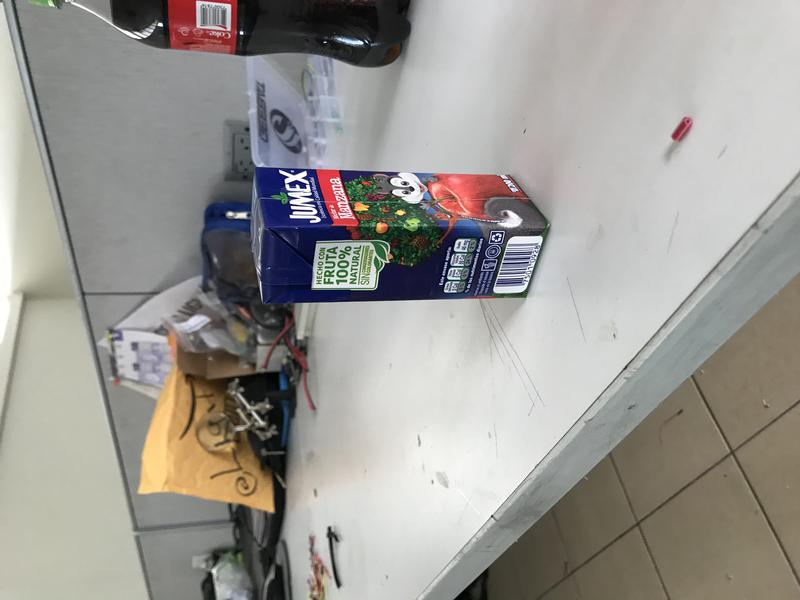coca_cola: (32, 1, 412, 66)
jumex_cajita: (250, 167, 551, 304)
